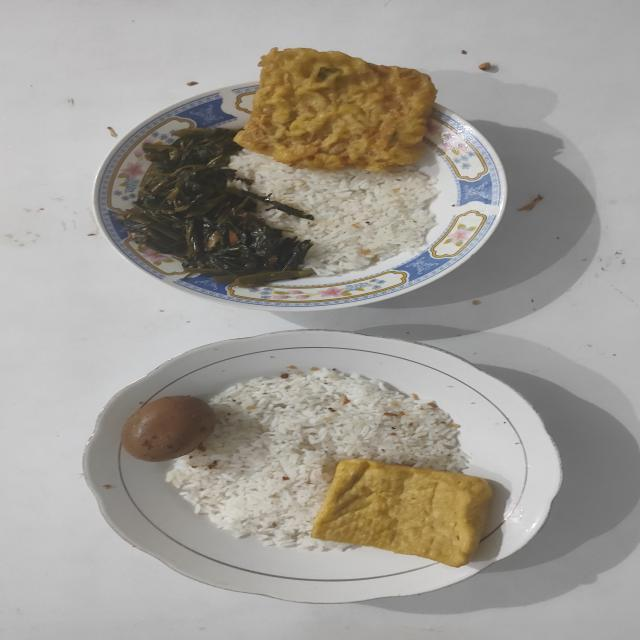nasi_putih: (166, 368, 468, 550), (230, 149, 440, 275)
tahu_goreng: (311, 459, 492, 567)
tumis_kangkung: (118, 125, 314, 286)
